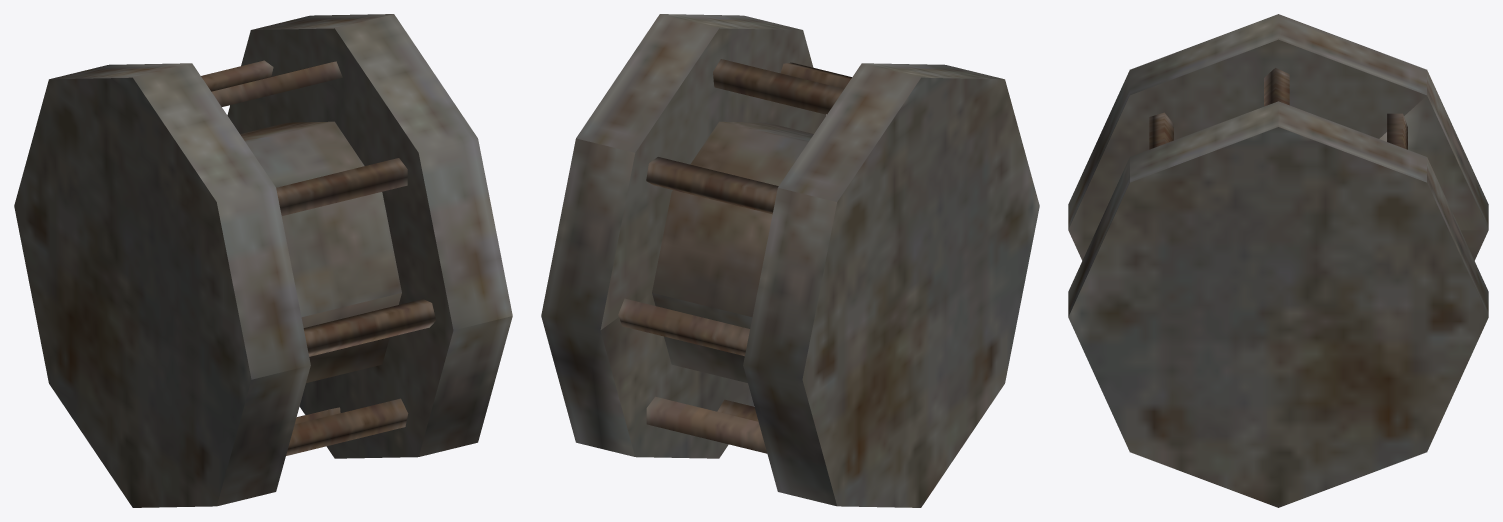
Rendered from nt_2020_pipes_modular_clampc_LOD1.obj.
3 renders of one model, left to right at view 1: azimuth 30°, elevation 25°; view 2: azimuth 150°, elevation 25°; view 3: azimuth 270°, elevation 25°, orthographic. The views are drawn at different scales.
Visible parts, largest first — view 1: mtl_nt_2020_pipes_modular_blue; view 2: mtl_nt_2020_pipes_modular_blue; view 3: mtl_nt_2020_pipes_modular_blue.
Part boxes in pixels (x1,y1,x2,y2): mtl_nt_2020_pipes_modular_blue: (14,14,512,507); mtl_nt_2020_pipes_modular_blue: (541,14,1039,507); mtl_nt_2020_pipes_modular_blue: (1068,14,1488,507).
Size of the model in its own units: 34.07 by 53.61 by 53.61.
